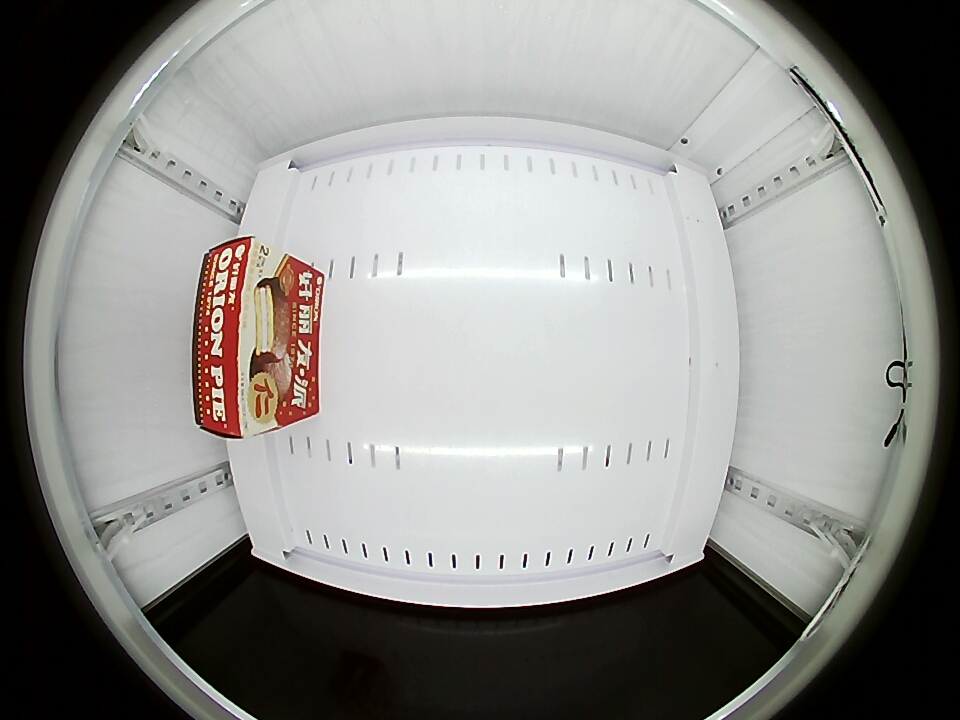haoliyou: (192, 236, 299, 439)
